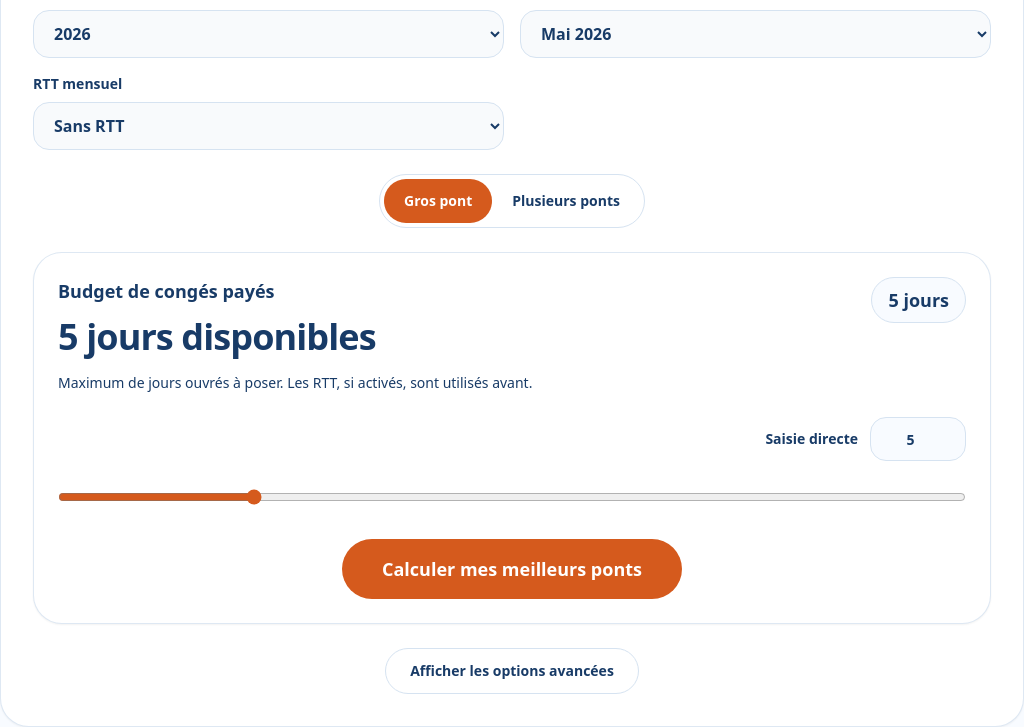
Test: planner and content pages › locks school zone and overlap controls when school holidays are avoided
(page scrolled)
Step 1. Click the button "Afficher les options avancées" → point(512, 671), box [385,648,639,694]
(page scrolled)
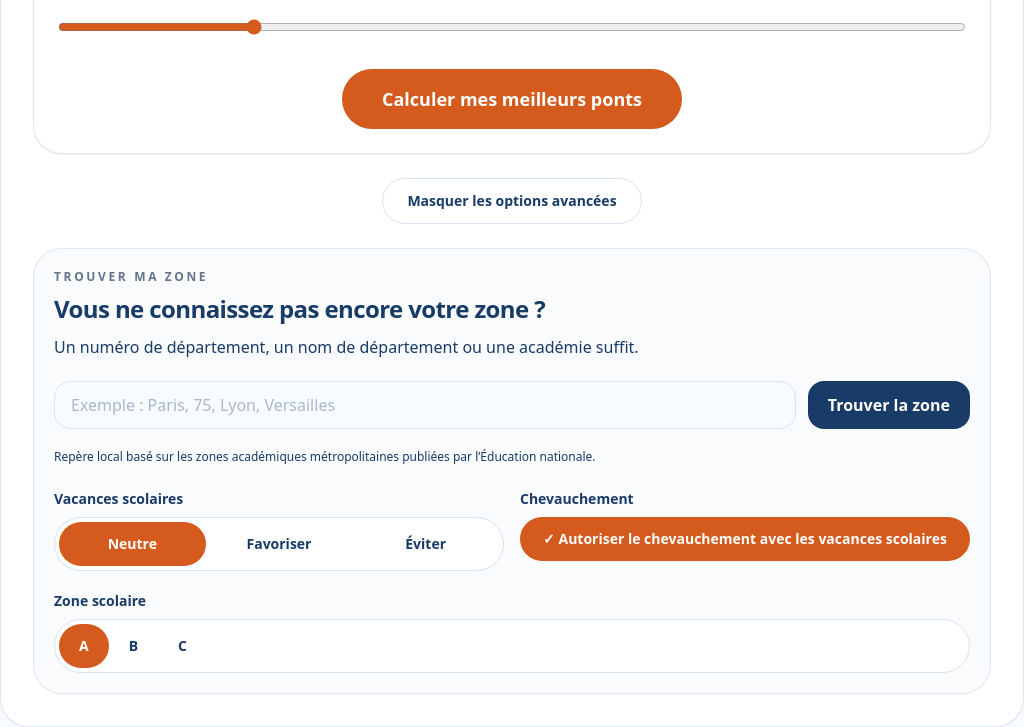
Step 2. Click the button "Éviter" → point(426, 544), box [352,522,499,566]
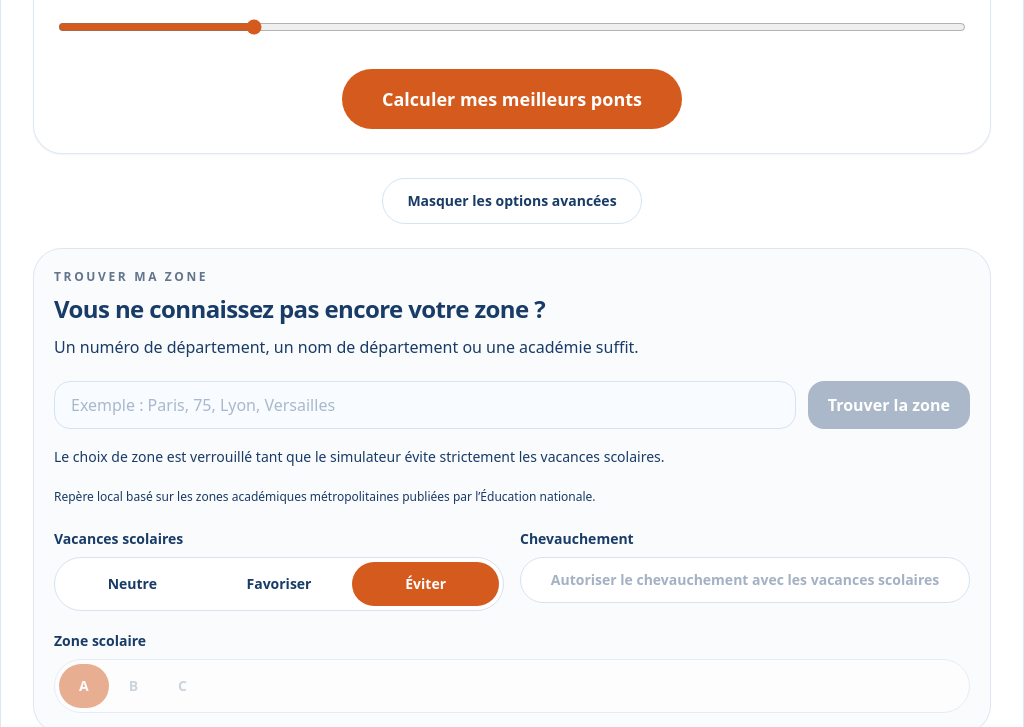
Expected: the button "A" is disabled, [59,664,109,708]
Expected: the button "B" is disabled, [109,664,158,708]
Expected: the button "C" is disabled, [158,664,207,708]
